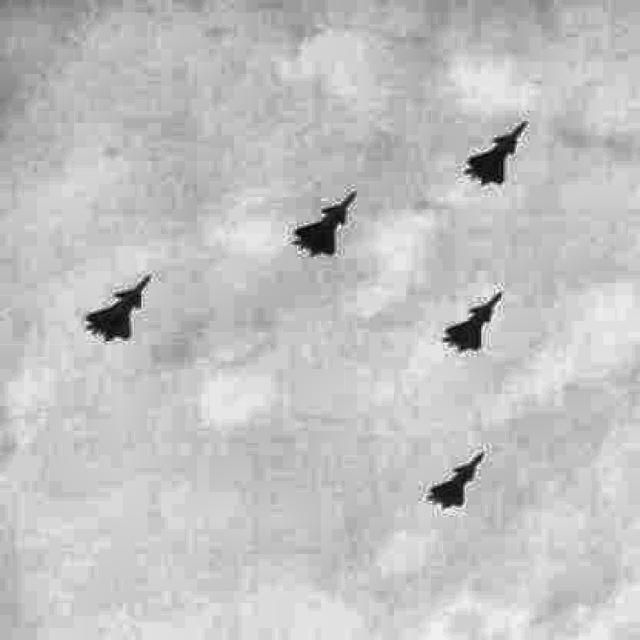J20: (83, 275, 152, 342), (291, 190, 358, 259), (464, 119, 528, 187), (440, 290, 505, 355), (425, 451, 487, 511)
